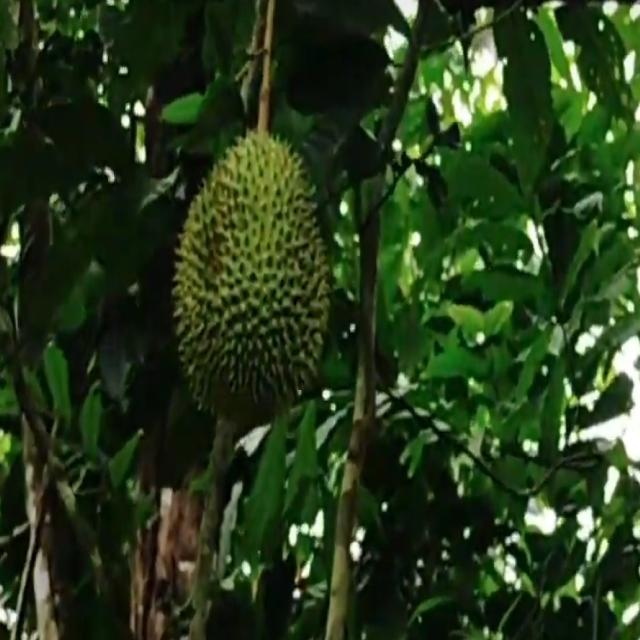immature: (175, 114, 330, 430)
